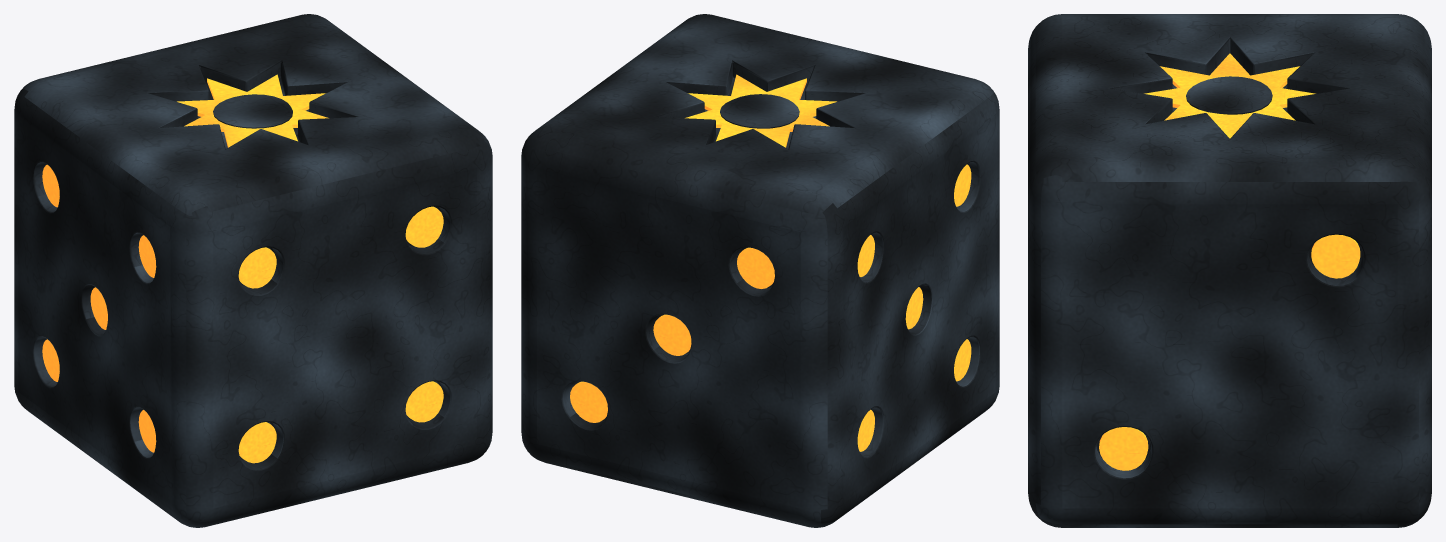
File: chaos-rune.glb
3 renders of one model, left to right at view 1: azimuth 30°, elevation 25°; view 2: azimuth 150°, elevation 25°; view 3: azimuth 270°, elevation 25°, orthographic. The views are drawn at different scales.
Parts seen in each view (by area): view 1: MM_Die_chaos-rune; view 2: MM_Die_chaos-rune; view 3: MM_Die_chaos-rune.
Boxes of the visible parts, left/top/right/bottom form: MM_Die_chaos-rune: left=14, top=14, right=492, bottom=527; MM_Die_chaos-rune: left=521, top=14, right=999, bottom=527; MM_Die_chaos-rune: left=1028, top=14, right=1431, bottom=527.
Size of the model in its own units: 0.0295 by 0.0295 by 0.0295.
2 materials, 2 textured.
